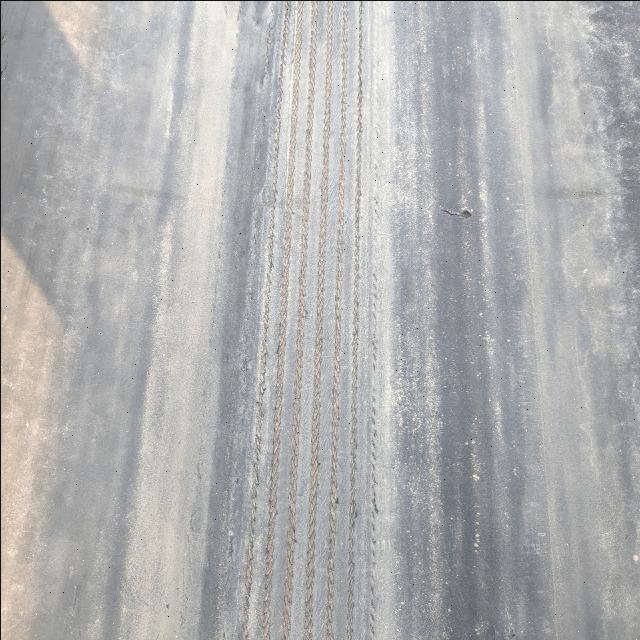Wear: (232, 0, 374, 640)
